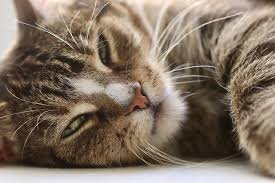cat: (13, 5, 273, 172)
